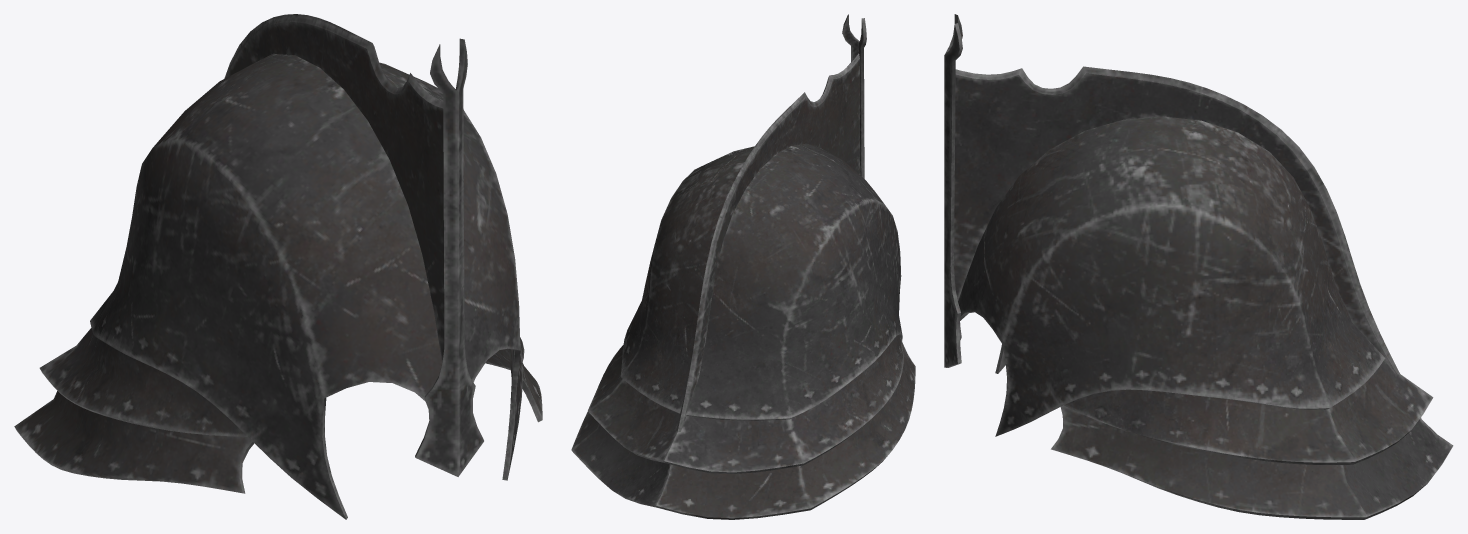
The model's file is sk_uruk_mordor_helmet_heavy_c2.fbx.
3 renders of one model, left to right at view 1: azimuth 30°, elevation 25°; view 2: azimuth 150°, elevation 25°; view 3: azimuth 270°, elevation 25°, orthographic. The views are drawn at different scales.
Visible parts, largest first — view 1: sk_uruk_mordor_helmet_heavy_c2; view 2: sk_uruk_mordor_helmet_heavy_c2; view 3: sk_uruk_mordor_helmet_heavy_c2.
Boxes of the visible parts, x1,y1,x2,y2 form: sk_uruk_mordor_helmet_heavy_c2: (14,14,542,519); sk_uruk_mordor_helmet_heavy_c2: (571,14,915,519); sk_uruk_mordor_helmet_heavy_c2: (944,14,1453,519).
Size of the model in its own units: 0.2888 by 0.36 by 0.3439.
1 material, 1 textured.
